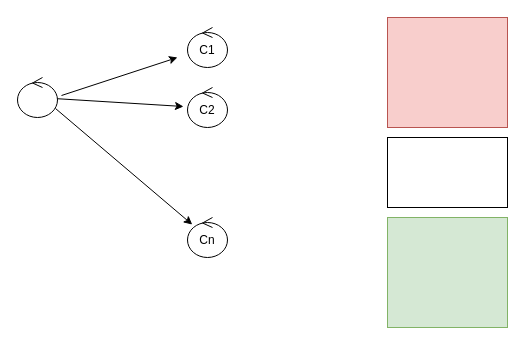
Image size: 525x345. Some labels were removed from this diagram. The shapes that lost their labels are listed below. From the top down, each one's box as (x1, y1, x2, y2) in pixels, then its label:
(16, 76, 58, 118): CRB
(386, 136, 508, 208): suspending function
